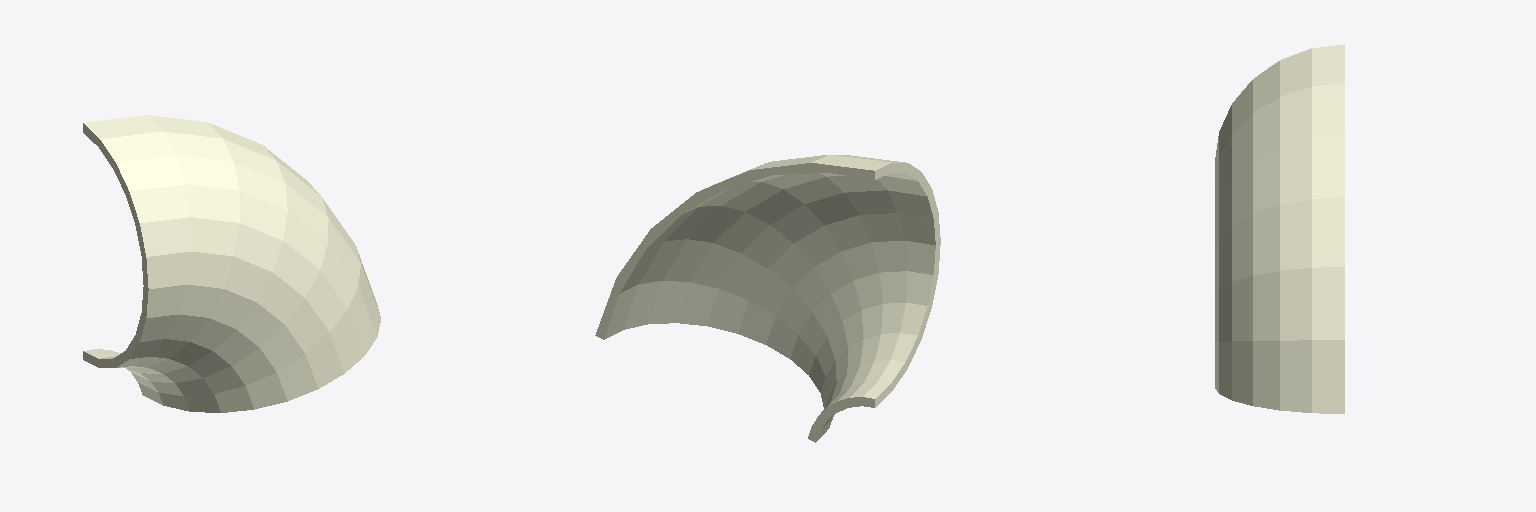
File: section_031.obj
3 views of the same model, side by side, from view 1: azimuth 30°, elevation 25°; view 2: azimuth 150°, elevation 25°; view 3: azimuth 270°, elevation 25° (orthographic).
Size of the model in its own units: 32.15 by 31.42 by 13.